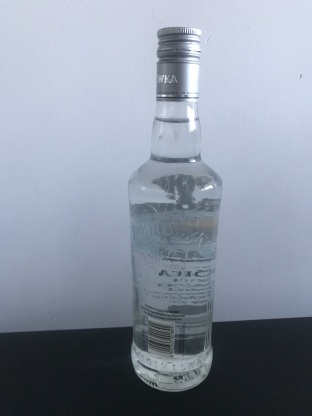nakretka: (154, 25, 202, 104)
